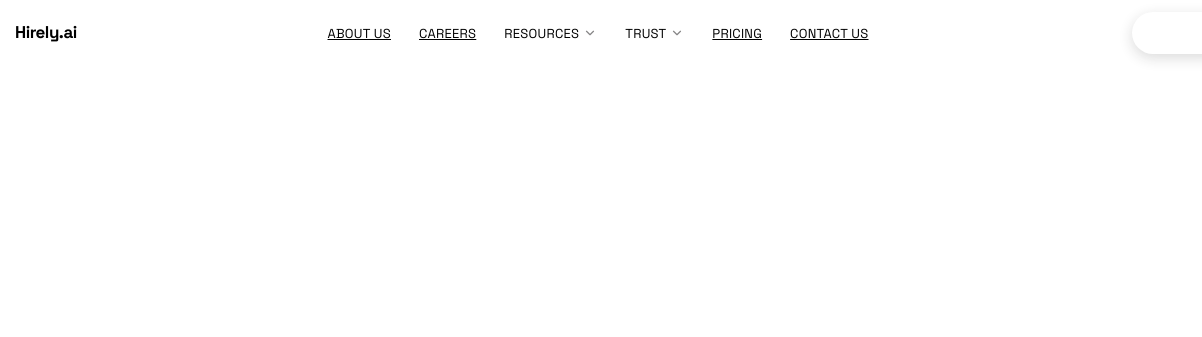
Test: SiteHeader menus › opens on click, and closes on a second click
Click the button "Resources": (551, 33) [504,16,597,50]
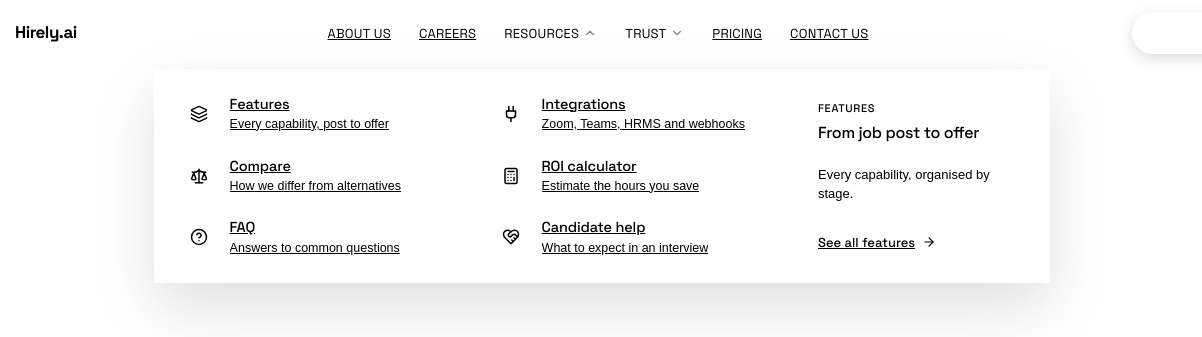
Now the button "Resources" is expanded
Click the button "Resources": (551, 33) [504,16,597,50]
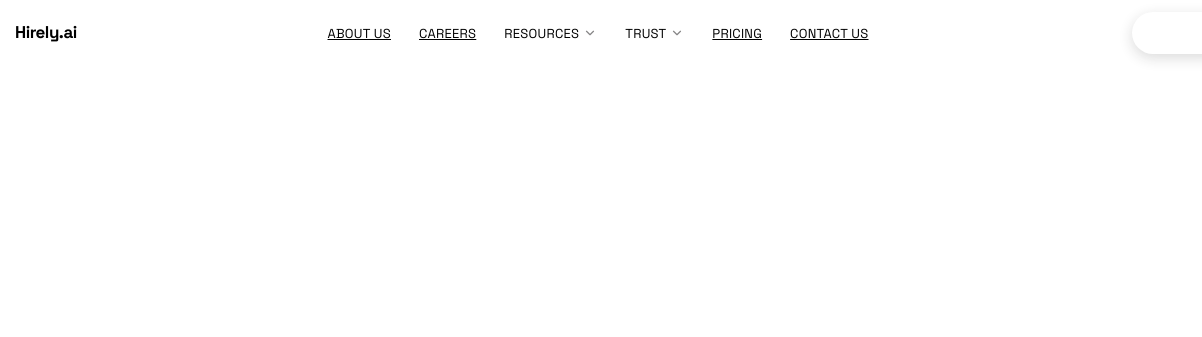
Now the button "Resources" is collapsed, box [504,16,597,50]
